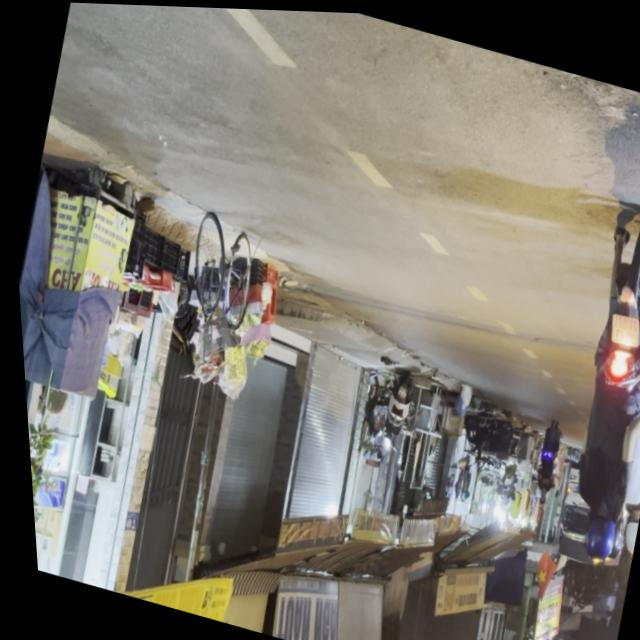helmet: (568, 503, 613, 561), (608, 502, 636, 553)
licenseplate: (520, 196, 640, 571)
nohelmet: (601, 308, 637, 345)
